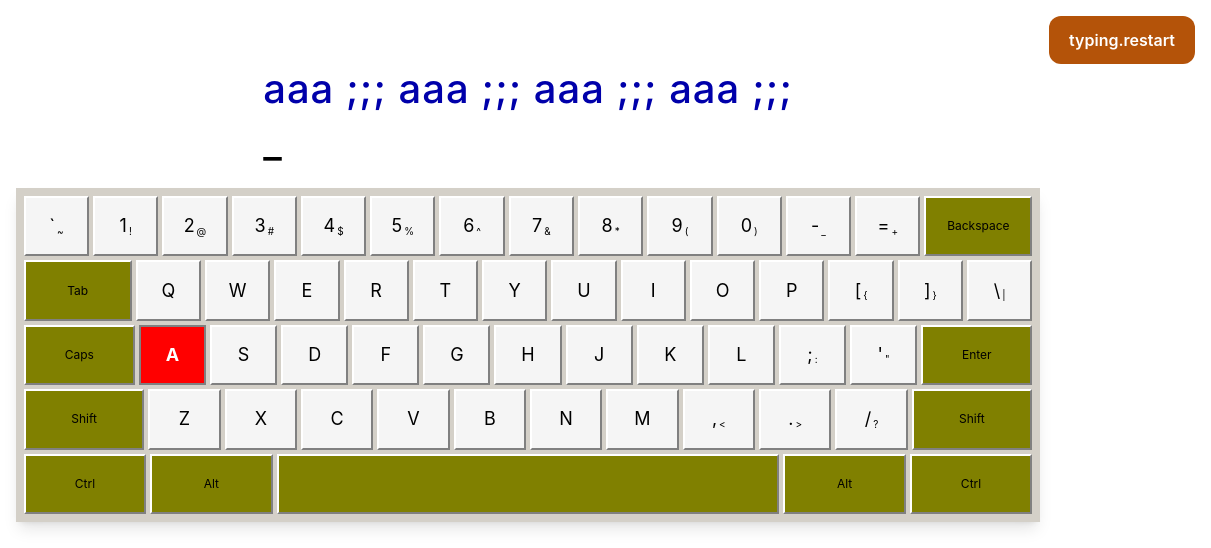
Scenario: ClassicScreen tap input › advances the drill on the expected tap and holds on a wrong tap
Click the button named "KeyS" at (244, 355), box [210,325,277,385]
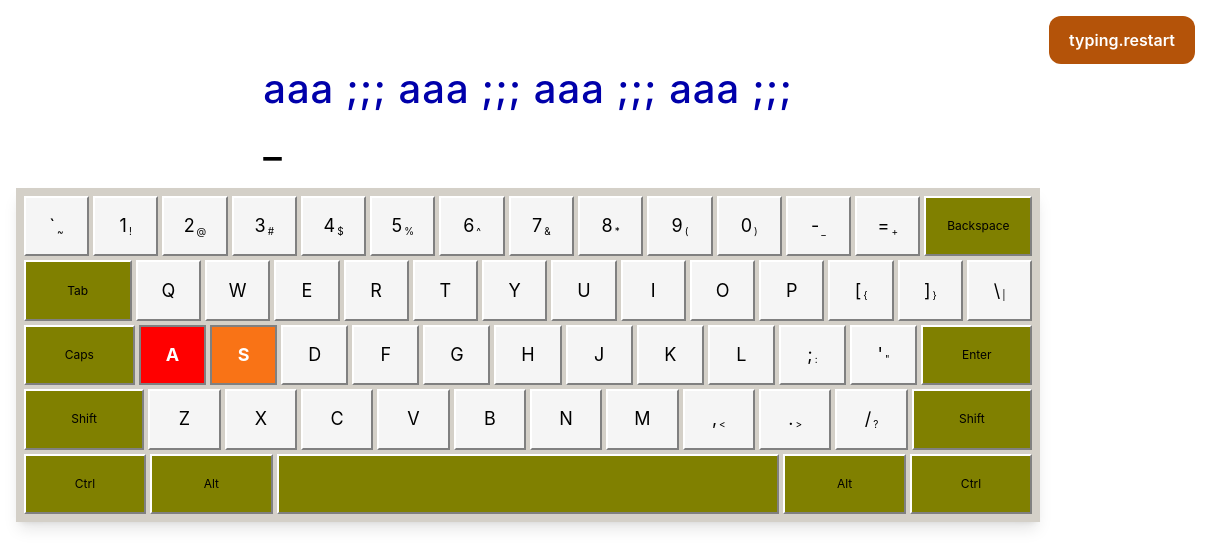
Expected: the field labelled "typed" does not show "s"
Click the button named "KeyA" at (172, 355), box [139,325,206,385]
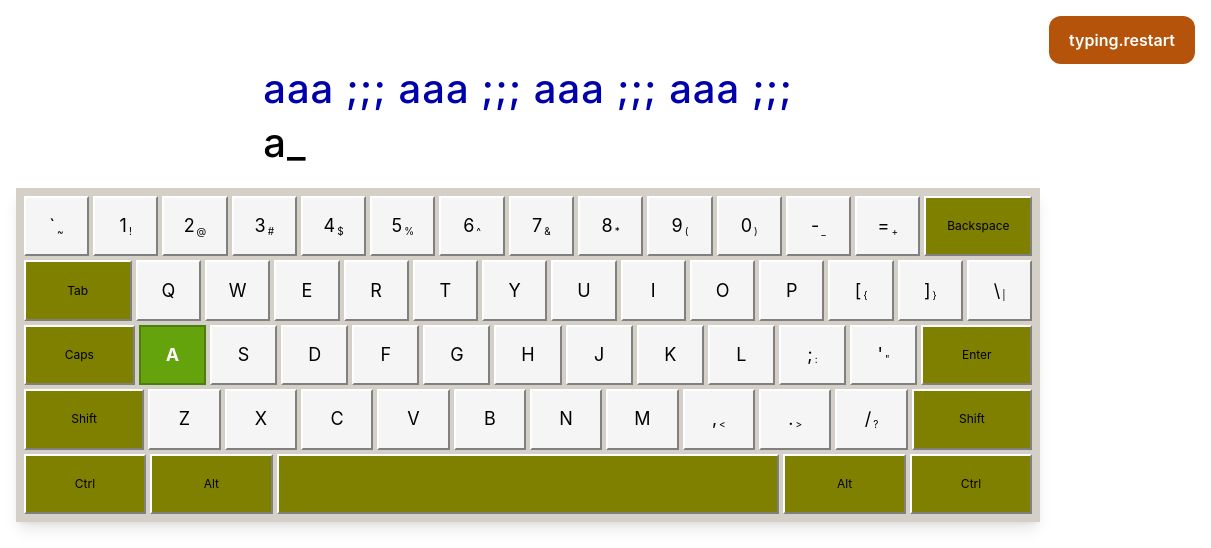
Expected: the element named "typed" shows "a", [263,118,287,167]
